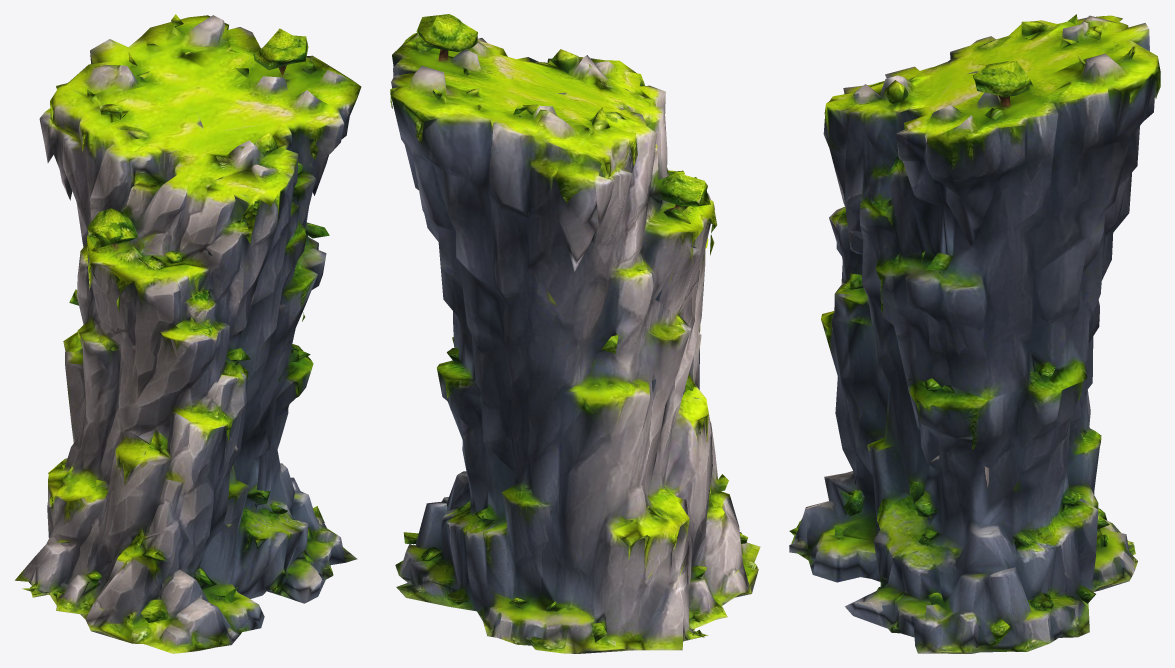
3 views of the same model, side by side, from view 1: azimuth 30°, elevation 25°; view 2: azimuth 150°, elevation 25°; view 3: azimuth 270°, elevation 25° (orthographic). The views are drawn at different scales.
Parts seen in each view (by area): view 1: prop; view 2: prop; view 3: prop.
Boxes of the visible parts, box(x1,y1,x2,y2) form: prop: box(15, 14, 361, 653); prop: box(390, 14, 760, 653); prop: box(789, 14, 1160, 653).
Bounding box in the file's own units: 0.6271 × 0.9995 × 0.5862.
Materials: 1 (1 with a texture image).
